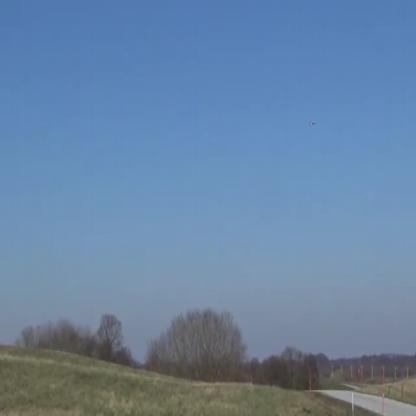CIV_Plane: (310, 117, 318, 129)
